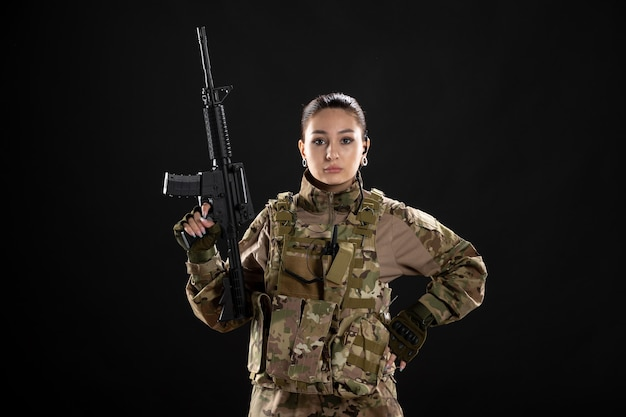gun: (160, 24, 259, 327)
